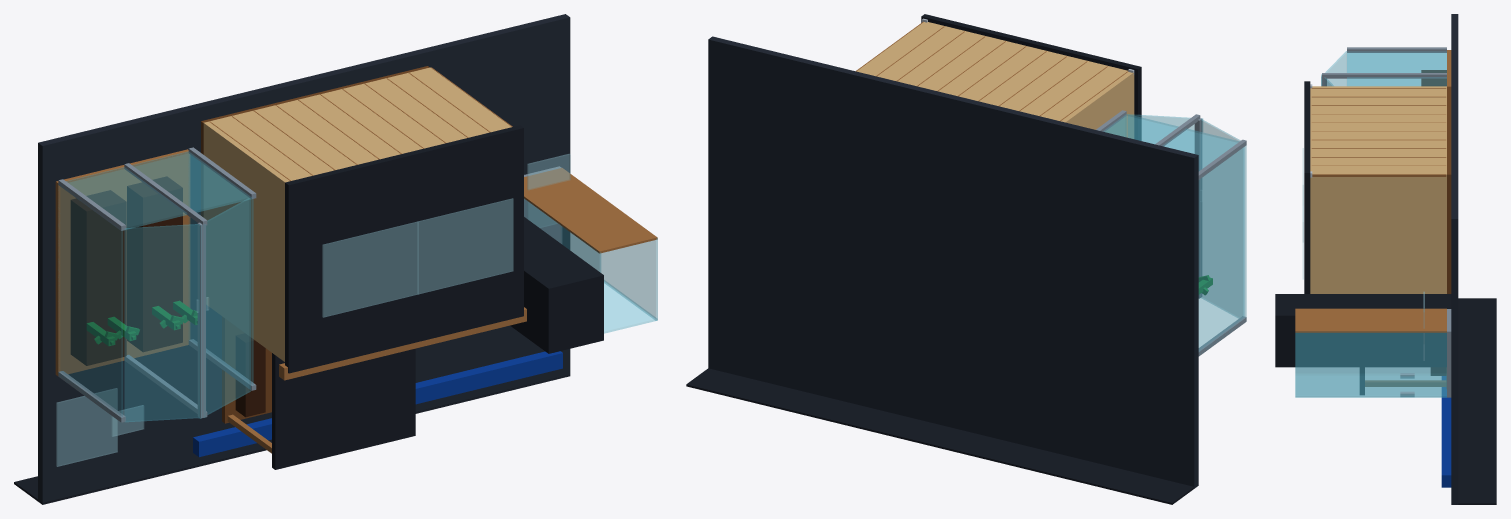
File: project_domus.obj
3 renders of one model, left to right at view 1: azimuth 30°, elevation 25°; view 2: azimuth 150°, elevation 25°; view 3: azimuth 270°, elevation 25°, orthographic. The views are drawn at different scales.
Visible parts, largest first — view 1: Base_negra_800x520, Techo_plano_removible, Muro_posterior_vivienda, Cubierta_inclinada_izquierda, Muro_lateral_izquierdo, Cubierta_porche, Panel_transparente_izquierdo, Panel_transparente_derecho, Cubierta_inclinada_derecha, Bancal_izquierdo, Bancal_derecho, Torre_Jarvis_cuerpo (+21 smaller); view 2: Base_negra_800x520, Muro_posterior_vivienda, Frente_rotulado_PROJECT_DOMUS, Panel_transparente_izquierdo, Cubierta_inclinada_izquierda, Panel_transparente_posterior, Techo_plano_removible, Muro_lateral_izquierdo, Cubierta_inclinada_derecha, Viga_cumbrera; view 3: Muro_lateral_derecho, Muro_posterior_vivienda, Gabinete_lateral_derecho, Torre_Jarvis_cuerpo, Frente_rotulado_PROJECT_DOMUS, Gabinete_lateral_izquierdo, Base_negra_800x520, Gabinete_fondo, Gabinete_frontal_removible, Panel_transparente_posterior, Panel_transparente_izquierdo, Techo_plano_removible (+11 smaller).
Boxes of the visible parts, x1=… form: Base_negra_800x520: x1=38, y1=14, x2=570, y2=504; Techo_plano_removible: x1=285, y1=125, x2=523, y2=373; Muro_posterior_vivienda: x1=203, y1=67, x2=511, y2=183; Cubierta_inclinada_izquierda: x1=124, y1=224, x2=205, y2=421; Muro_lateral_izquierdo: x1=203, y1=125, x2=284, y2=361; Cubierta_porche: x1=272, y1=348, x2=415, y2=469; Panel_transparente_izquierdo: x1=58, y1=186, x2=122, y2=417; Panel_transparente_derecho: x1=189, y1=154, x2=253, y2=385; Cubierta_inclinada_derecha: x1=199, y1=198, x2=250, y2=418; Bancal_izquierdo: x1=70, y1=190, x2=126, y2=365; Bancal_derecho: x1=127, y1=176, x2=182, y2=352; Torre_Jarvis_cuerpo: x1=510, y1=217, x2=603, y2=353; Base_negra_800x520: x1=708, y1=36, x2=1198, y2=488; Muro_posterior_vivienda: x1=856, y1=22, x2=1133, y2=122; Frente_rotulado_PROJECT_DOMUS: x1=686, y1=368, x2=1194, y2=504; Panel_transparente_izquierdo: x1=1199, y1=145, x2=1246, y2=351; Cubierta_inclinada_izquierda: x1=1201, y1=119, x2=1244, y2=317; Panel_transparente_posterior: x1=1103, y1=114, x2=1239, y2=170; Techo_plano_removible: x1=921, y1=14, x2=1141, y2=140; Muro_lateral_izquierdo: x1=1066, y1=73, x2=1134, y2=138; Cubierta_inclinada_derecha: x1=1128, y1=114, x2=1202, y2=153; Viga_cumbrera: x1=1194, y1=118, x2=1202, y2=298; Muro_lateral_derecho: x1=1310, y1=174, x2=1446, y2=293; Muro_posterior_vivienda: x1=1310, y1=86, x2=1446, y2=174; Gabinete_lateral_derecho: x1=1295, y1=332, x2=1446, y2=397; Torre_Jarvis_cuerpo: x1=1275, y1=294, x2=1451, y2=367; Frente_rotulado_PROJECT_DOMUS: x1=1452, y1=298, x2=1496, y2=504; Gabinete_lateral_izquierdo: x1=1295, y1=333, x2=1446, y2=373; Base_negra_800x520: x1=1451, y1=14, x2=1458, y2=504; Gabinete_fondo: x1=1295, y1=308, x2=1446, y2=332; Gabinete_frontal_removible: x1=1295, y1=375, x2=1446, y2=397; Panel_transparente_posterior: x1=1347, y1=51, x2=1446, y2=85; Panel_transparente_izquierdo: x1=1348, y1=53, x2=1446, y2=85; Techo_plano_removible: x1=1304, y1=81, x2=1310, y2=293.
Size of the model in its own units: 800 by 520 by 365.
